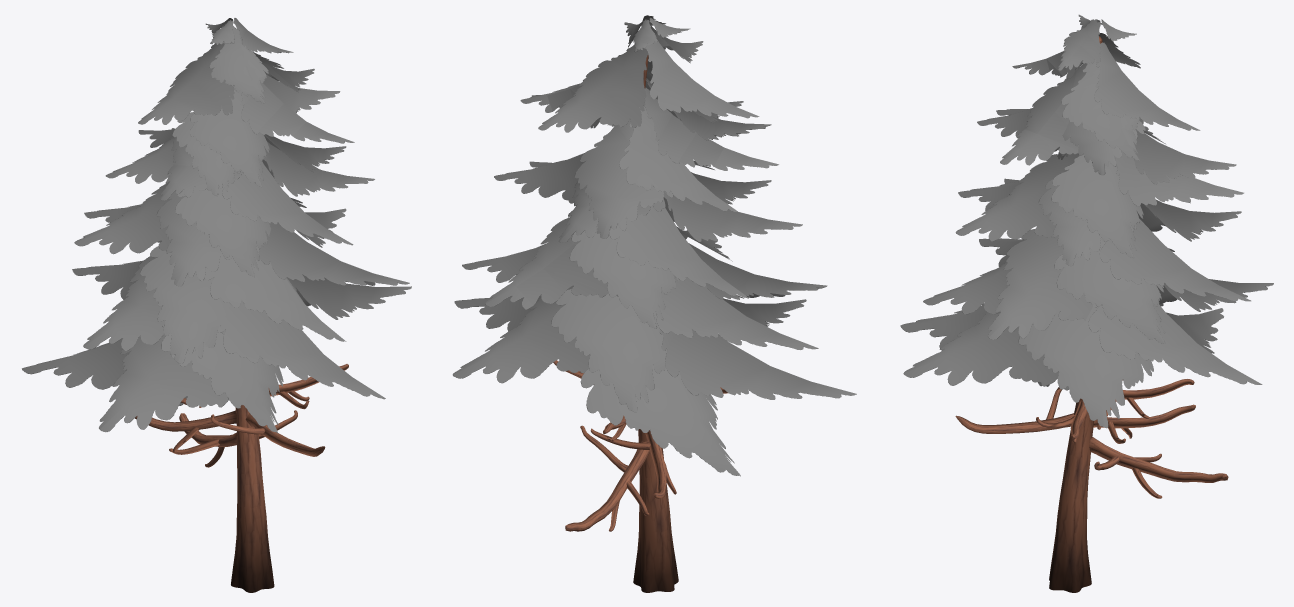
The model's file is Pine_1.gltf.
3 views of the same model, side by side, from view 1: azimuth 30°, elevation 25°; view 2: azimuth 150°, elevation 25°; view 3: azimuth 270°, elevation 25° (orthographic). The views are drawn at different scales.
Parts seen in each view (by area): view 1: Pine_1; view 2: Pine_1; view 3: Pine_1.
Boxes of the visible parts, <box> form: Pine_1: <box>22,18,411,592</box>; Pine_1: <box>452,15,856,592</box>; Pine_1: <box>900,14,1273,592</box>.
Size of the model in its own units: 4.94 by 7.32 by 4.54.
2 materials, 2 textured.
